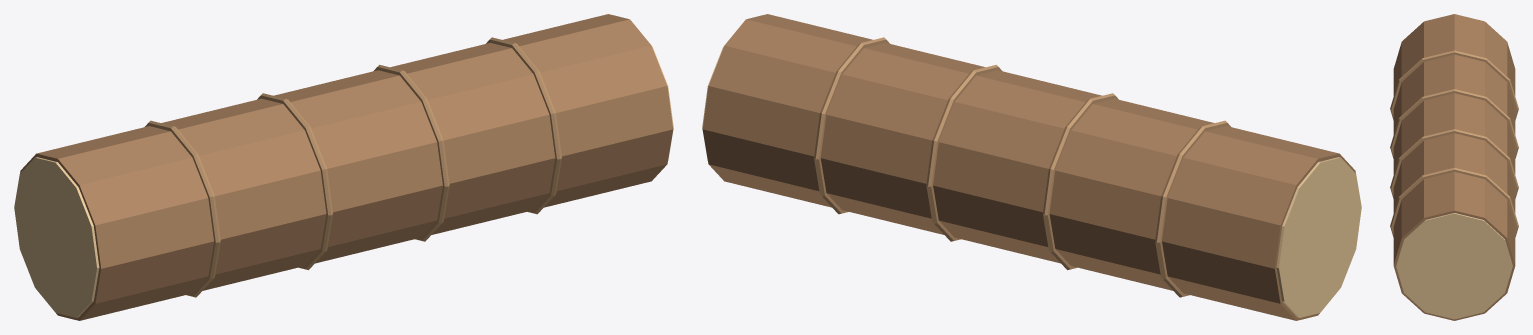
The model's file is Log_Scene.glb.
3 renders of one model, left to right at view 1: azimuth 30°, elevation 25°; view 2: azimuth 150°, elevation 25°; view 3: azimuth 270°, elevation 25°, orthographic. The views are drawn at different scales.
Parts seen in each view (by area): view 1: LogBody, CutEnd_Left, BarkBand, BarkBand.002, BarkBand.003, BarkBand.001; view 2: LogBody, CutEnd_Left, BarkBand, BarkBand.002, BarkBand.003, BarkBand.001; view 3: LogBody, CutEnd_Right, BarkBand.001, BarkBand.002, BarkBand.003, BarkBand.
Boxes of the visible parts, x1,y1,x2,y2 form: LogBody: (20, 14, 673, 320); CutEnd_Left: (14, 157, 99, 317); BarkBand: (145, 120, 220, 297); BarkBand.002: (373, 64, 449, 241); BarkBand.003: (486, 37, 561, 214); BarkBand.001: (257, 93, 332, 270); LogBody: (702, 14, 1355, 320); CutEnd_Left: (1276, 157, 1361, 317); BarkBand: (1155, 120, 1230, 297); BarkBand.002: (926, 64, 1002, 241); BarkBand.003: (814, 37, 889, 214); BarkBand.001: (1043, 93, 1118, 270); LogBody: (1393, 14, 1515, 320); CutEnd_Right: (1396, 213, 1512, 319); BarkBand.001: (1390, 89, 1518, 158); BarkBand.002: (1390, 129, 1518, 198); BarkBand.003: (1390, 167, 1518, 237); BarkBand: (1390, 50, 1518, 120).
Bounding box in the file's own units: 2.77 × 0.762 × 0.762.
